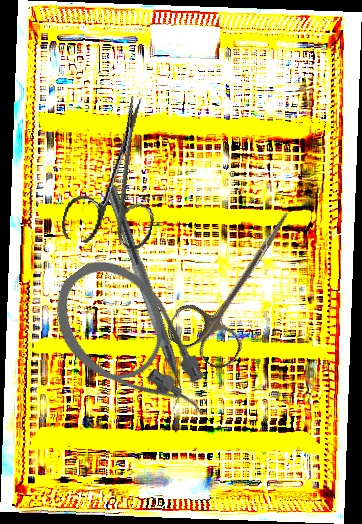Cannula: (34, 241, 230, 454)
Chopper: (90, 184, 195, 411)
Iris Scissors: (162, 190, 316, 375), (59, 87, 178, 256)
